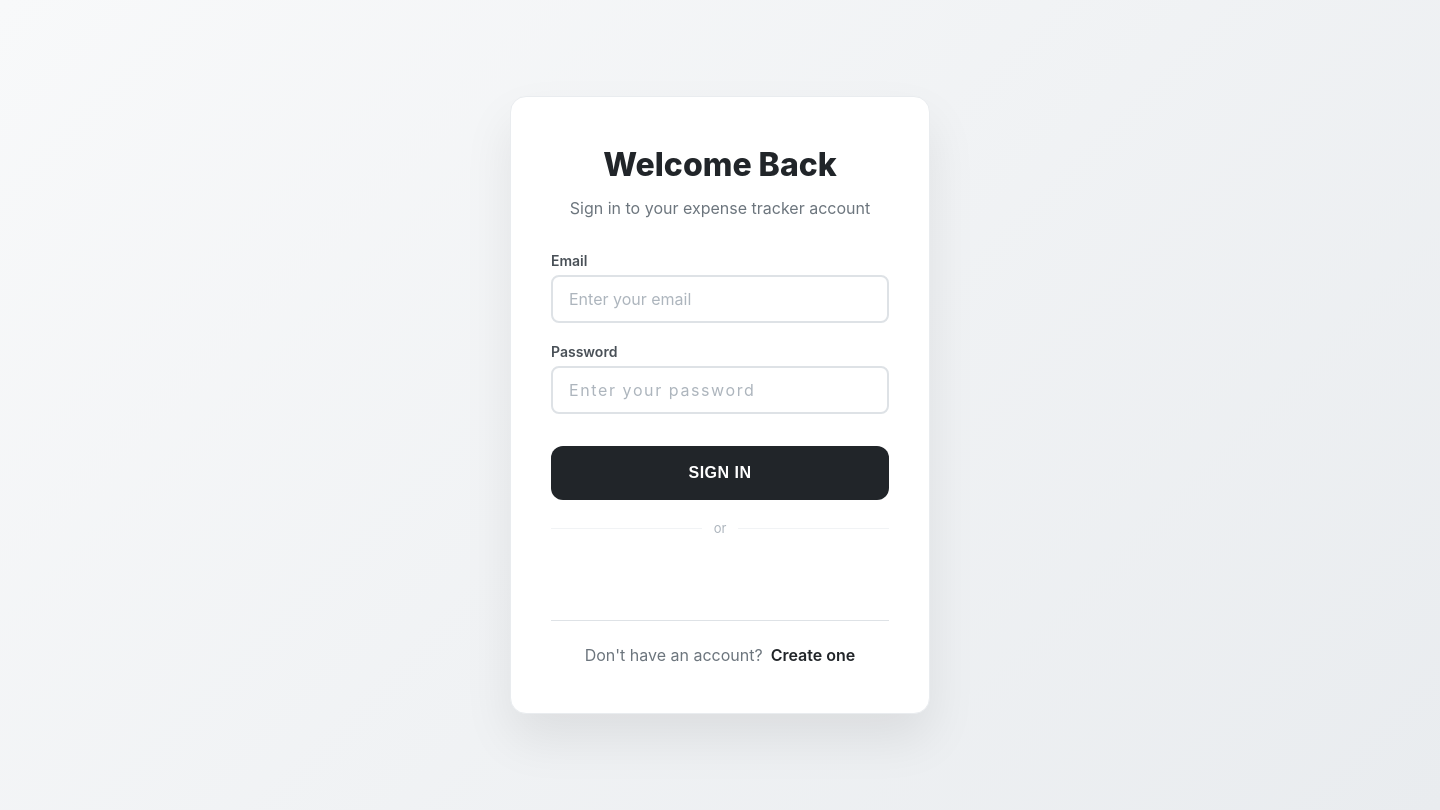
Test: Login › should display API error message when available
Type "test@example.com" into the field labelled "Email" at (720, 299), box [551,275,889,323]
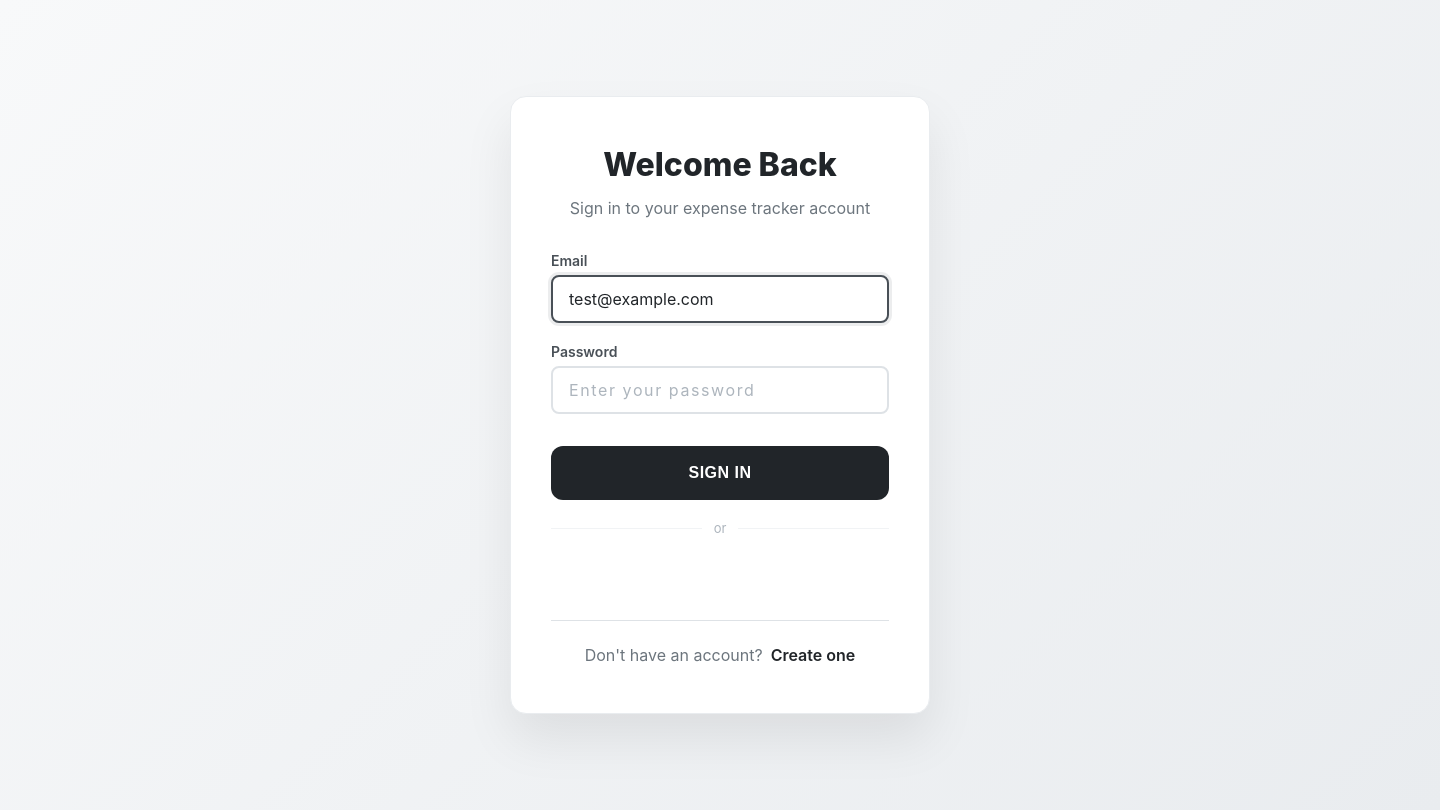
Type "password123" into the password field labelled "Password" at (720, 390), box [551,366,889,414]
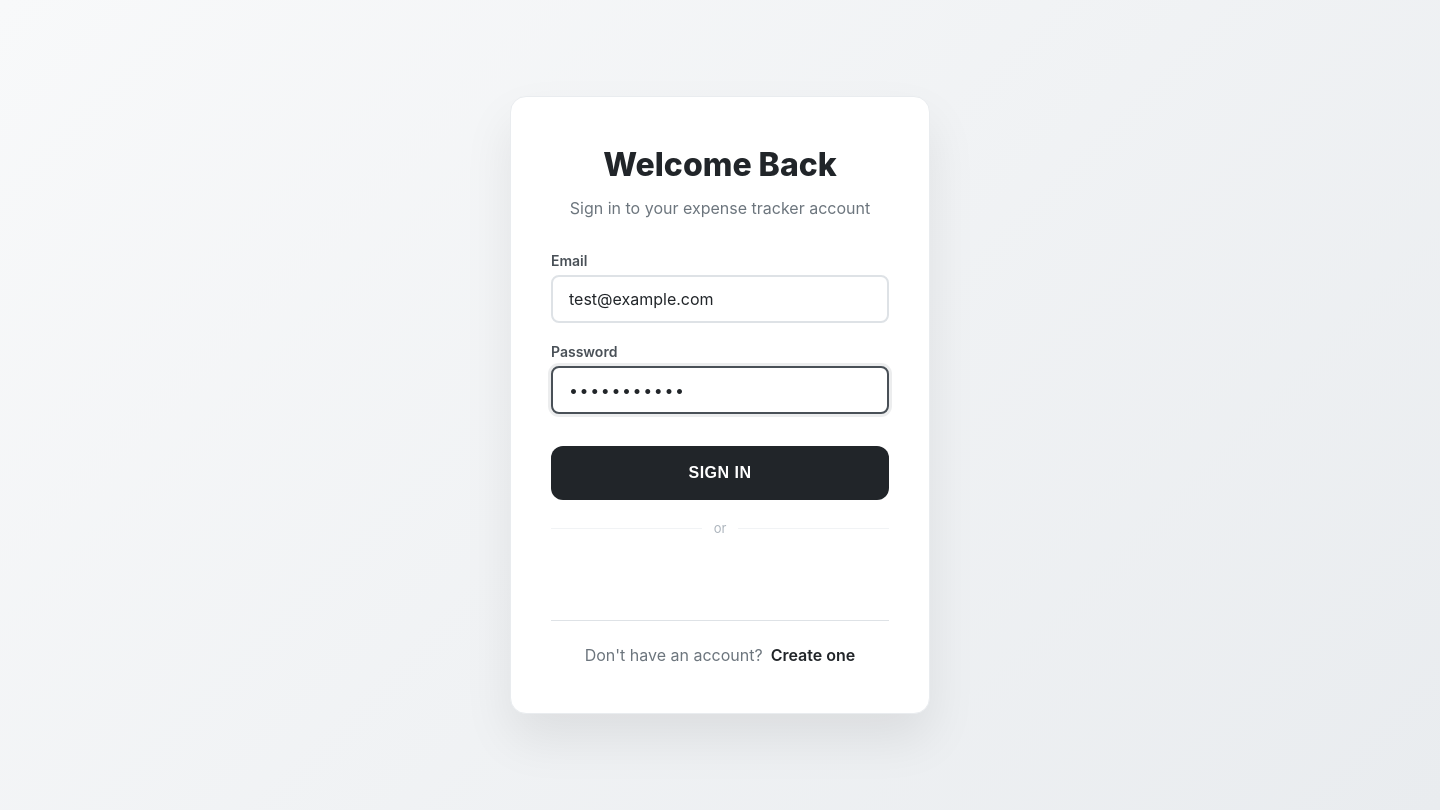
Click the button "Sign In" at (720, 473), box [551,446,889,500]
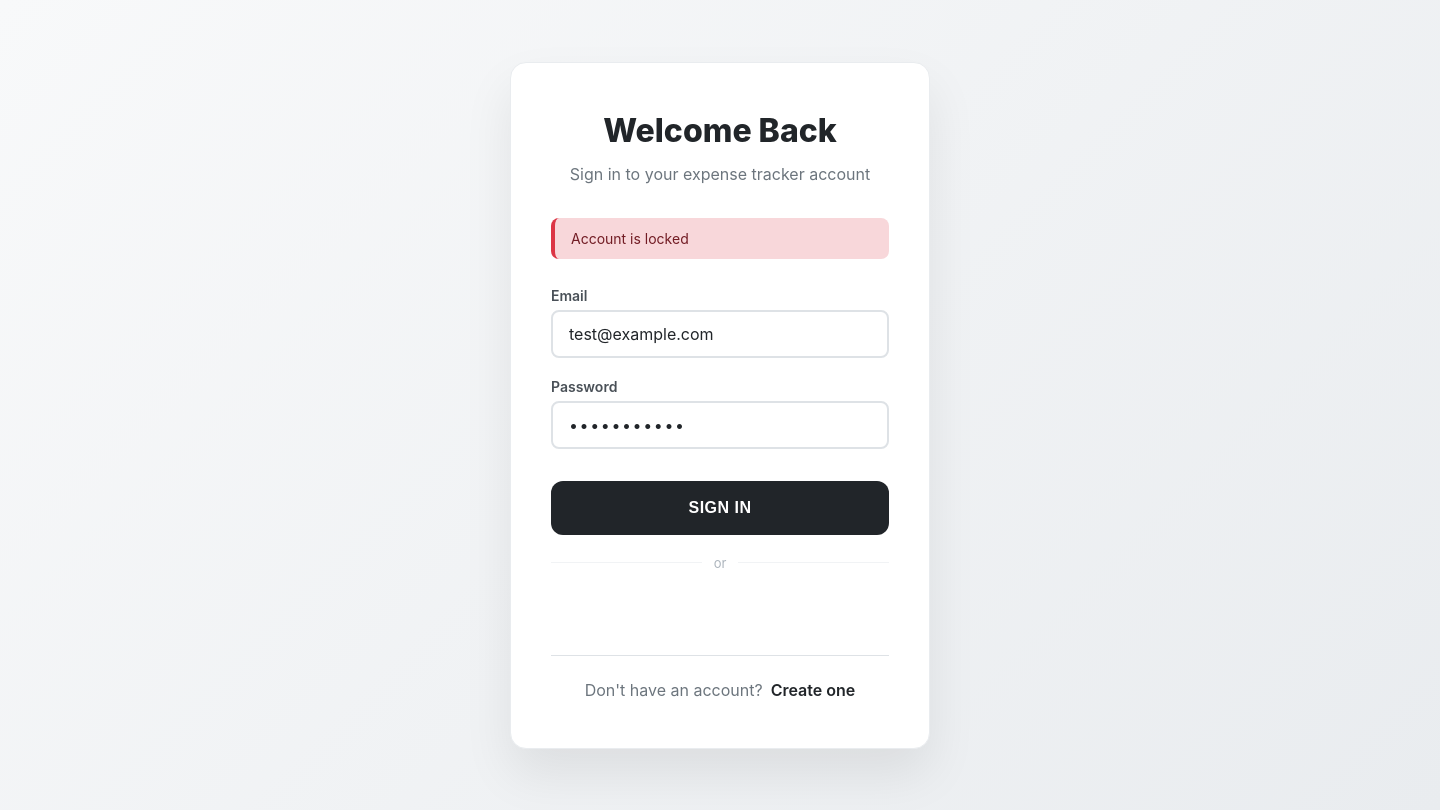
Result: the text "Account is locked" is shown at [551,218,889,258]
